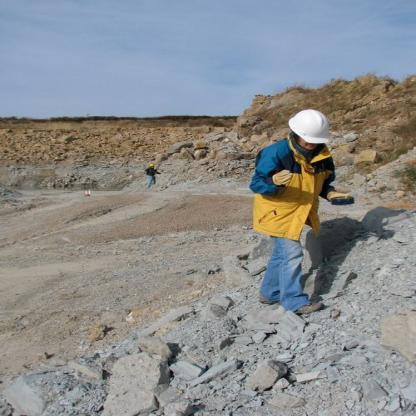person: (237, 93, 355, 313), (124, 150, 168, 192)
